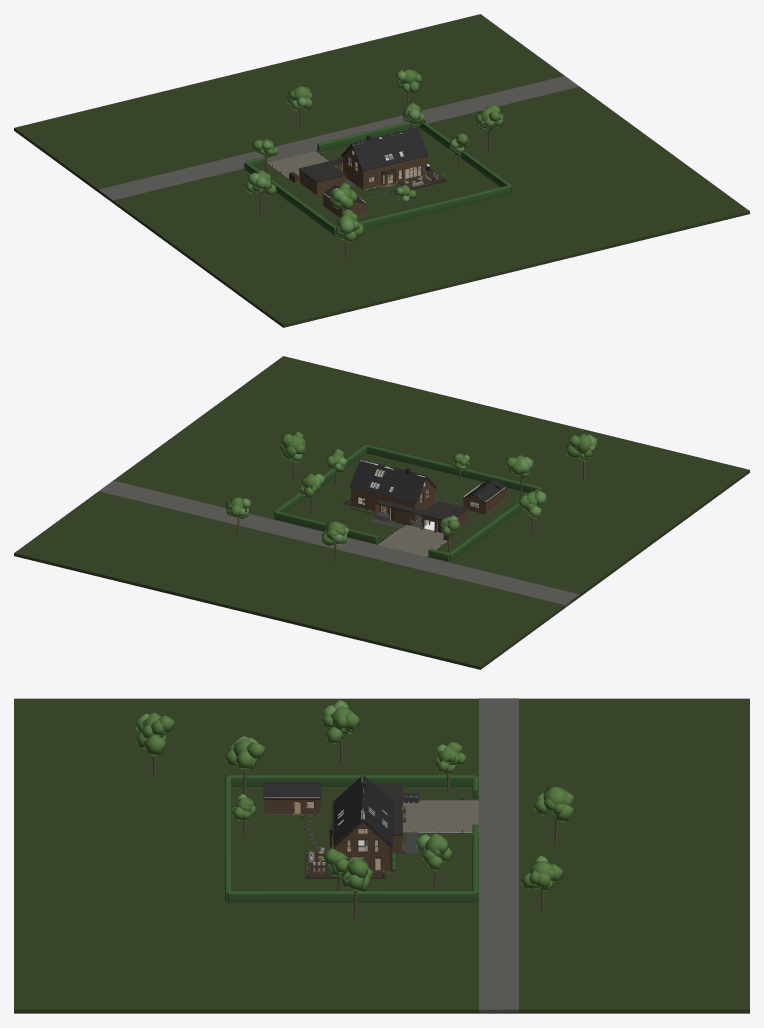
Rendered from eikhus-enkel.glb.
The picture shows the model from 3 angles, top to bottom: view 1: azimuth 30°, elevation 25°; view 2: azimuth 150°, elevation 25°; view 3: azimuth 270°, elevation 25°; orthographic projection. The views are drawn at different scales.
Visible parts, largest first — view 1: W Gress.001|19990, W Gress.001|-9980, W Asfalt.001|-9980, W Asfalt.001|20020, W Plannja sort|2, W Gress.001|-10050, W Gress.001|19950, W Hekk|9980, W Plannja sort|10002, W Hekk|10020, W Hekk|-10020, W Kledning brun|0 (+3 smaller); view 2: W Gress.001|-9980, W Gress.001|19990, W Asfalt.001|-9980, W Asfalt.001|20020, W Hekk|9980, W Gress.001|-9940, W Gress.001|20060, W Hekk|-10020, W Hekk|10020, W Grus.001|-9990, W Plannja sort|2, W Grus.001|-9980 (+5 smaller); view 3: W Gress.001|19990, W Gress.001|-9980, W Asfalt.001|20020, W Asfalt.001|-9980, W Gress.001|59990, W Gress.001|60020, W Hekk|20010, W Hekk|19990, W Hekk|-19990, W Hekk|-20010, W Grus.001|-9980, W Grus.001|-9990 (+11 smaller).
Part boxes in pixels (x1=…): W Gress.001|19990: x1=283, y1=14, x2=749, y2=324; W Gress.001|-9980: x1=14, y1=14, x2=480, y2=324; W Asfalt.001|-9980: x1=99, y1=77, x2=558, y2=200; W Asfalt.001|20020: x1=118, y1=76, x2=579, y2=199; W Plannja sort|2: x1=352, y1=129, x2=410, y2=170; W Gress.001|-10050: x1=283, y1=218, x2=730, y2=327; W Gress.001|19950: x1=299, y1=211, x2=749, y2=321; W Hekk|9980: x1=359, y1=185, x2=510, y2=224; W Plannja sort|10002: x1=363, y1=127, x2=427, y2=162; W Hekk|10020: x1=318, y1=122, x2=418, y2=151; W Hekk|-10020: x1=359, y1=188, x2=506, y2=229; W Kledning brun|0: x1=343, y1=152, x2=398, y2=189; W Gress.001|-9980: x1=15, y1=470, x2=749, y2=666; W Gress.001|19990: x1=14, y1=356, x2=749, y2=553; W Asfalt.001|-9980: x1=103, y1=492, x2=579, y2=604; W Asfalt.001|20020: x1=99, y1=480, x2=575, y2=593; W Hekk|9980: x1=366, y1=445, x2=528, y2=492; W Gress.001|-9940: x1=31, y1=557, x2=480, y2=669; W Gress.001|20060: x1=14, y1=553, x2=455, y2=663; W Hekk|-10020: x1=369, y1=447, x2=539, y2=492; W Hekk|10020: x1=275, y1=511, x2=376, y2=543; W Grus.001|-9990: x1=379, y1=525, x2=443, y2=545; W Plannja sort|2: x1=376, y1=464, x2=425, y2=496; W Grus.001|-9980: x1=379, y1=537, x2=446, y2=556; W Gress.001|19990: x1=14, y1=698, x2=749, y2=1009; W Gress.001|-9980: x1=15, y1=698, x2=749, y2=1009; W Asfalt.001|20020: x1=479, y1=700, x2=518, y2=1009; W Asfalt.001|-9980: x1=479, y1=698, x2=518, y2=1006; W Gress.001|59990: x1=14, y1=1009, x2=743, y2=1013; W Gress.001|60020: x1=60, y1=1009, x2=749, y2=1013; W Hekk|20010: x1=234, y1=891, x2=474, y2=902; W Hekk|19990: x1=229, y1=891, x2=473, y2=902; W Hekk|-19990: x1=232, y1=775, x2=474, y2=786; W Hekk|-20010: x1=229, y1=775, x2=472, y2=786; W Grus.001|-9980: x1=403, y1=801, x2=478, y2=831; W Grus.001|-9990: x1=402, y1=802, x2=472, y2=832.
Bounding box in the file's own units: 110 × 11.07 × 110.
